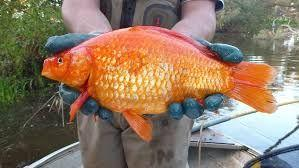Gold Fish: (39, 23, 280, 143)
